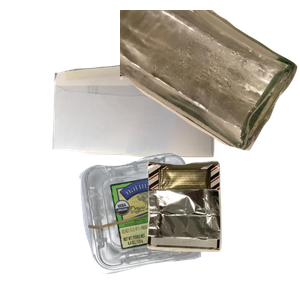glass: (120, 10, 300, 153)
paper: (50, 61, 257, 211)
plastic: (76, 151, 270, 300)
trash: (144, 158, 300, 300)
